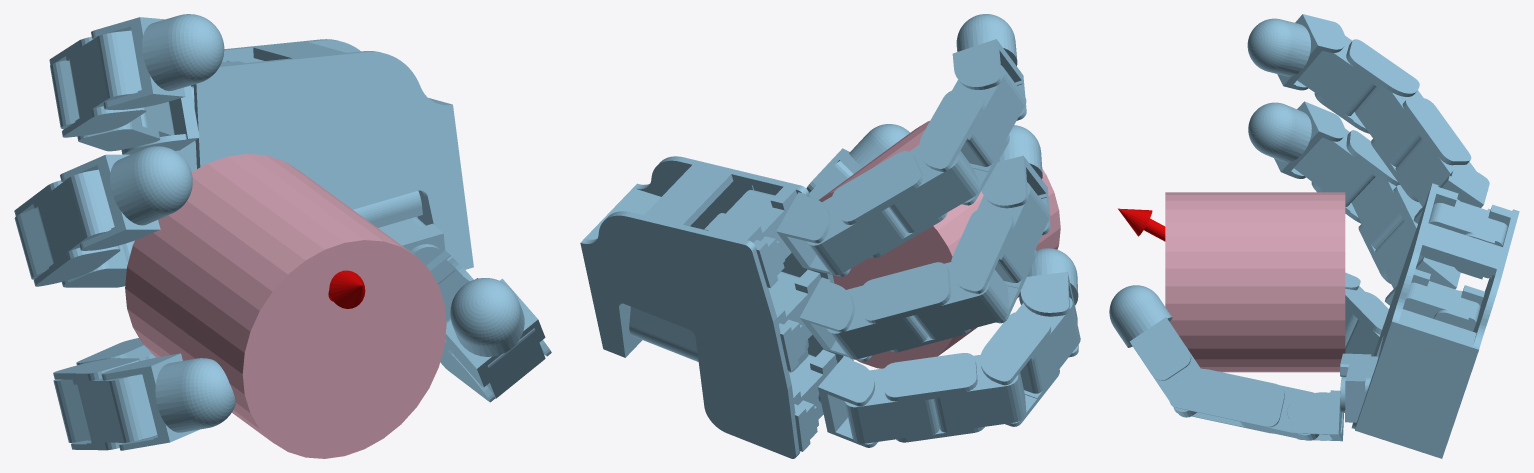
3 renders of one model, left to right at view 1: azimuth 30°, elevation 25°; view 2: azimuth 150°, elevation 25°; view 3: azimuth 270°, elevation 25°, orthographic. The views are drawn at different scales.
Parts seen in each view (by area): view 1: world, cylinder_medium.stl; view 2: world, cylinder_medium.stl; view 3: world, cylinder_medium.stl.
Boxes of the visible parts, left/top/right/bottom form: world: left=14, top=14, right=551, bottom=450; cylinder_medium.stl: left=125, top=154, right=446, bottom=458; world: left=580, top=14, right=1080, bottom=458; cylinder_medium.stl: left=819, top=121, right=1060, bottom=368; world: left=1109, top=14, right=1519, bottom=458; cylinder_medium.stl: left=1165, top=192, right=1345, bottom=372.
Bounding box in the file's own units: 0.1742 × 0.1787 × 0.1823.
